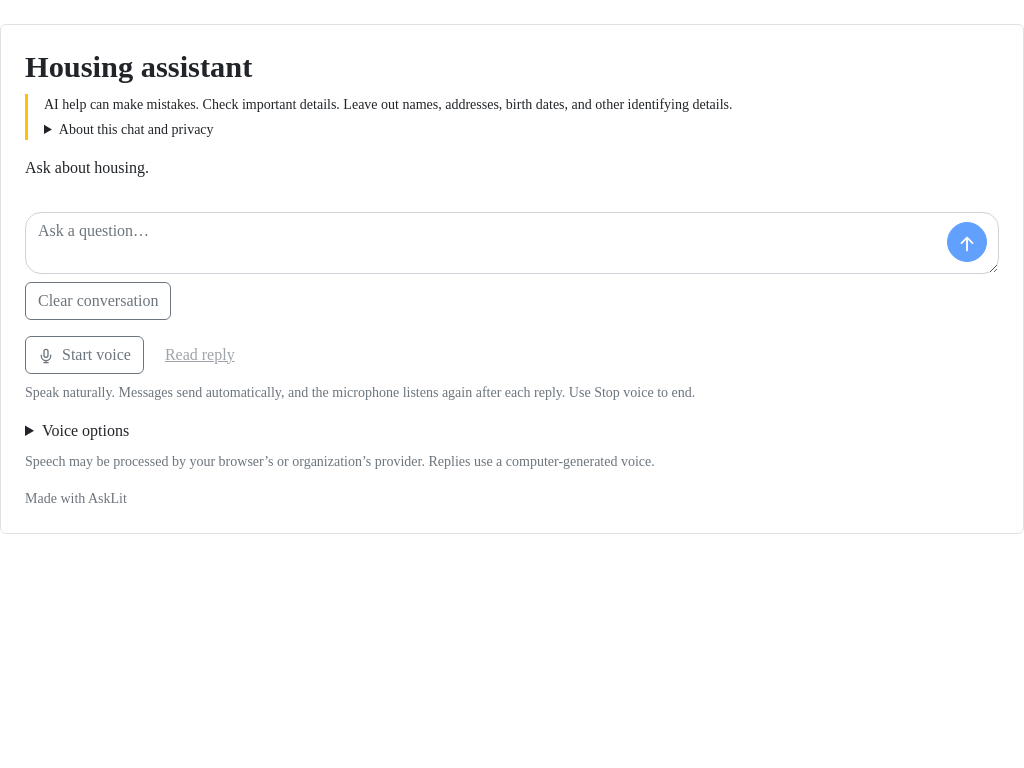
Test: reuses the request ID after a network failure
Expected: the heading "Housing assistant" is shown, [25,50,252,84]
Type "Question" into the text box named "Your question" at (512, 242), box [25,212,999,274]
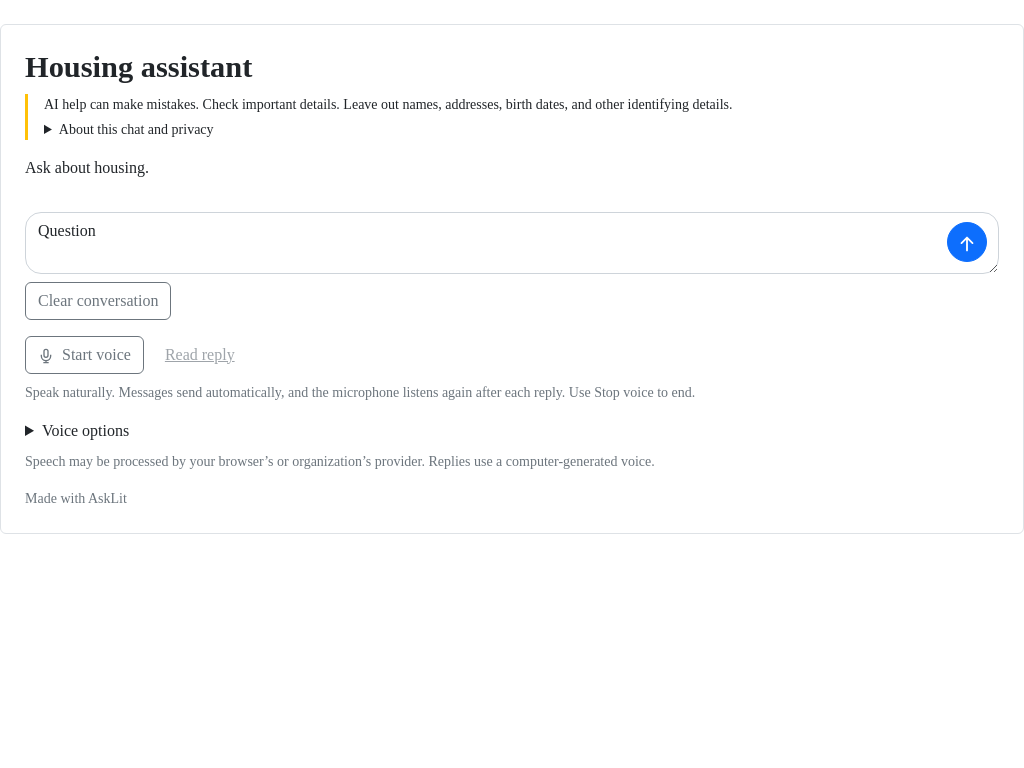
Click the button named "Send" at (967, 242), box [947,222,987,262]
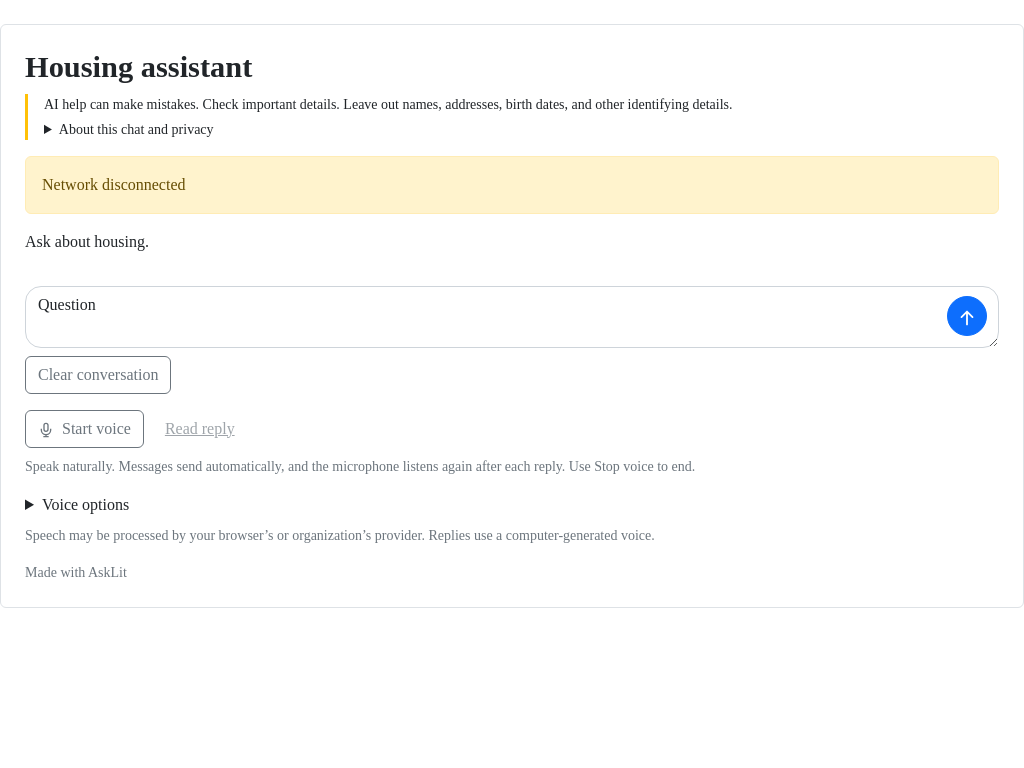
Expected: the message "Network disconnected" is shown, [25,156,999,214]
Click the button named "Send" at (967, 316), box [947,296,987,336]
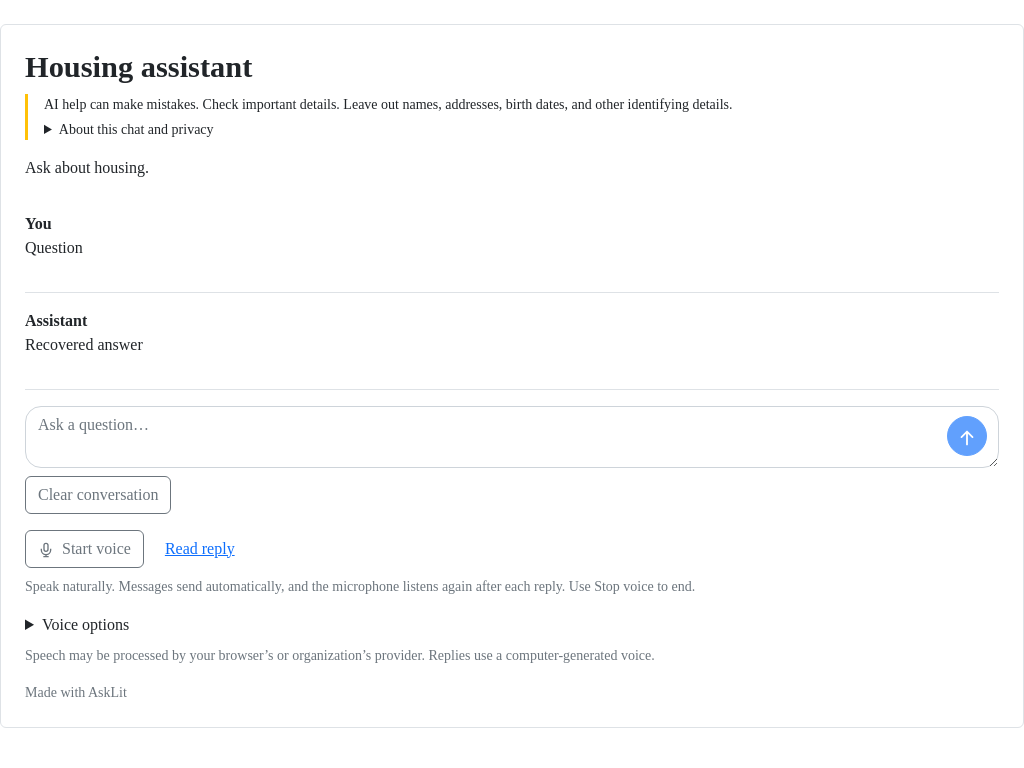
Expected: the text "Recovered answer" is shown, [25,336,143,352]
